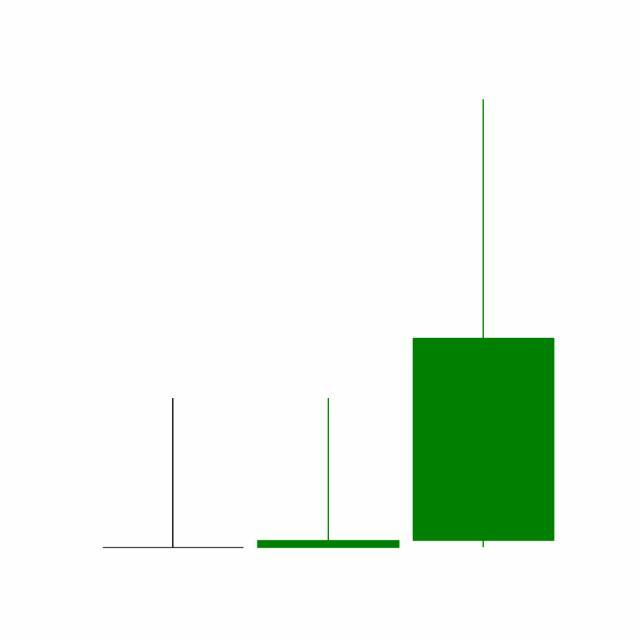Gravestone Doji: (250, 397, 407, 550)
